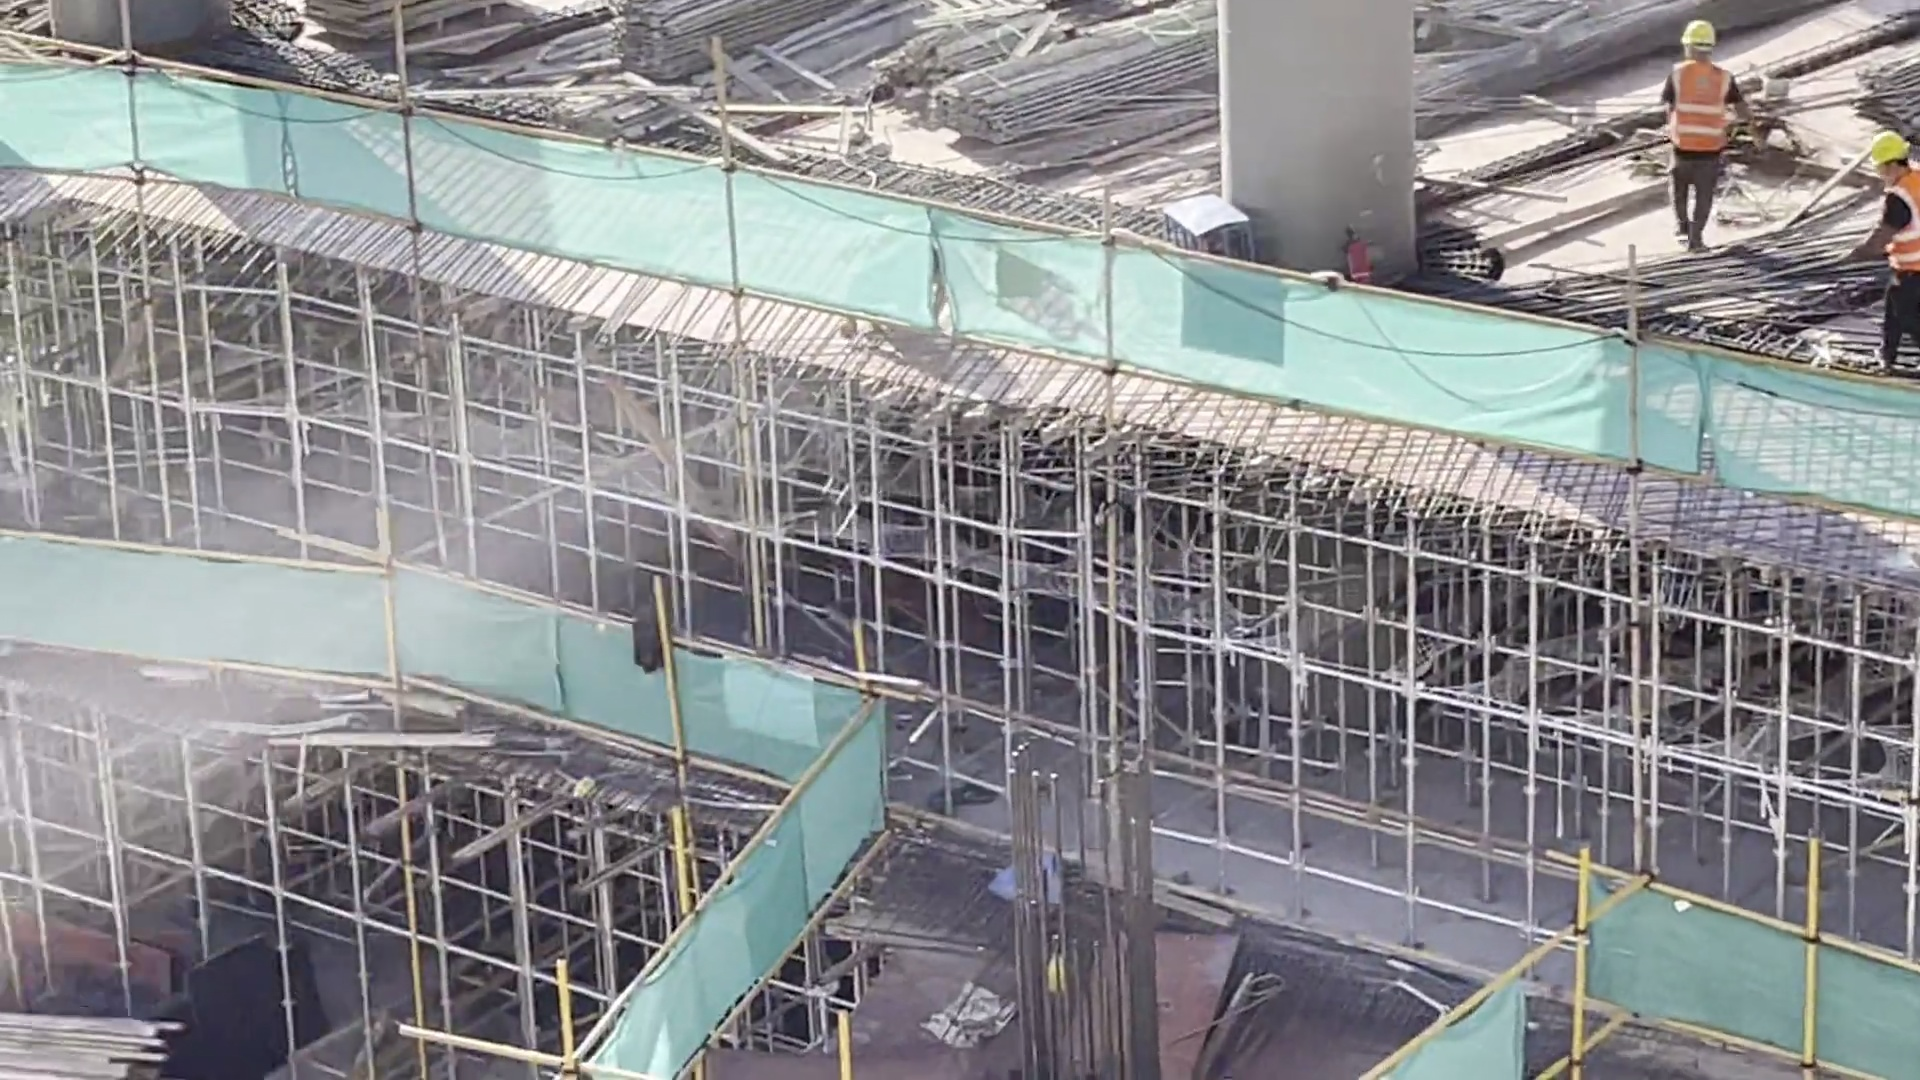helmet: (1670, 9, 1735, 61), (1867, 134, 1909, 171)
person: (1659, 15, 1732, 252), (1849, 122, 1918, 364)
vest: (1659, 55, 1738, 204), (1874, 179, 1920, 277)
wood: (923, 11, 1218, 152)
